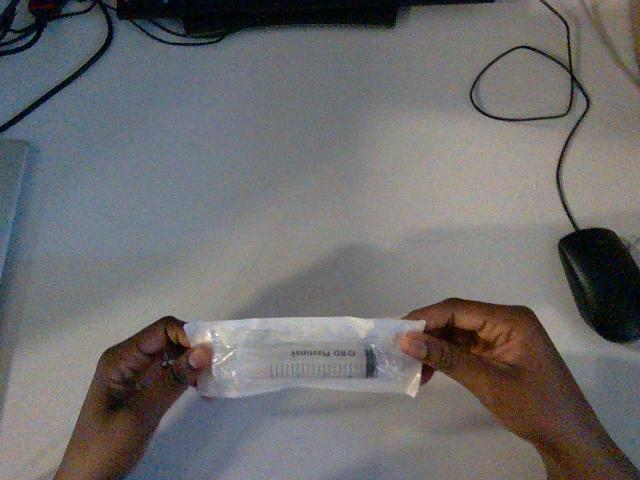syringe: (184, 317, 424, 396)
